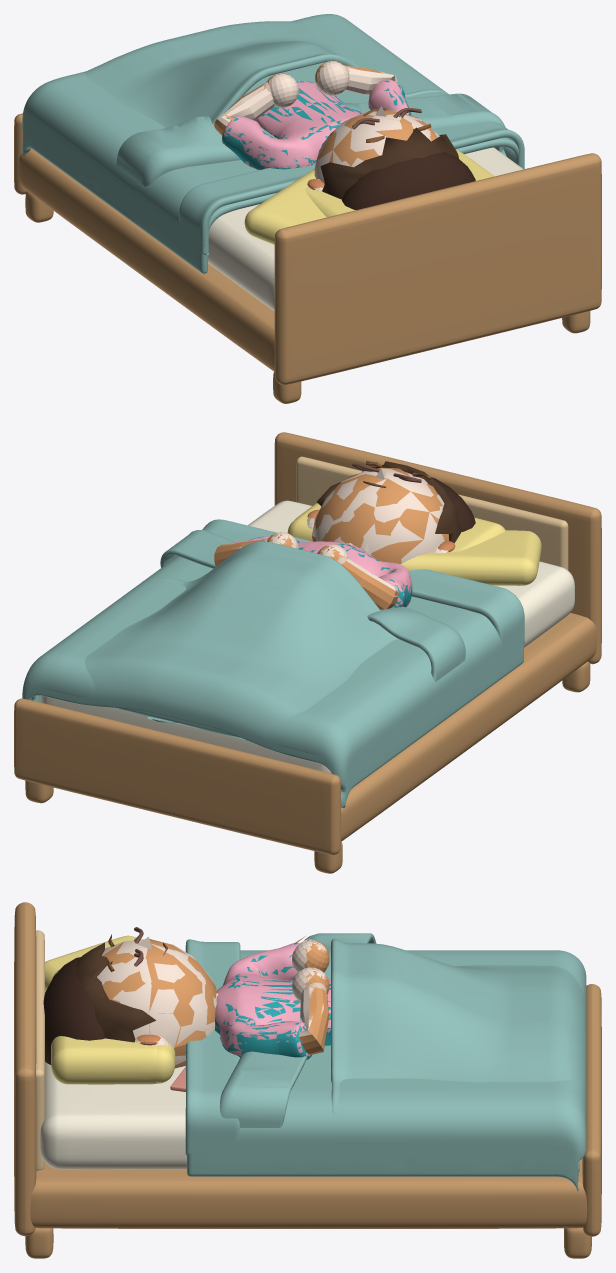
The model's file is Joey Bed.fbx.
The picture shows the model from 3 angles, top to bottom: view 1: azimuth 30°, elevation 25°; view 2: azimuth 150°, elevation 25°; view 3: azimuth 270°, elevation 25°; orthographic projection. The views are drawn at different scales.
Visible parts, largest first — view 1: Bed frame | Bed_Headboard, Neat | Neat_Blanket, Sleeping boy | Smooth_Blanket, Bed frame | Bed_Frame, Messy | Messy_Blanket, Sleeping girl | Girl_Default_Reusable_Shirt, Sleeping girl | Girl_Default_Mesh_NPC_17_Penelope, Neat | Neat_Blanket_Fold, Bed frame | Bed_Mattress, Sleeping boy | Boy_Default_BaldCharacter_Mesh, Sleeping girl | Girl_Default_Hair_Crown, Messy | Messy_Bed_Pillow (+5 smaller); view 2: Sleeping boy | Smooth_Blanket, Bed frame | Bed_Footboard, Neat | Neat_Blanket, Bed frame | Bed_Frame, Bed frame | Bed_Headboard, Sleeping boy | Boy_Default_BaldCharacter_Mesh, Bed frame | Bed_Mattress, Sleeping girl | Girl_Default_Mesh_NPC_17_Penelope, Neat | Neat_Blanket_Fold, Messy | Messy_Blanket, Bed frame | Bed_Headboard_Pad, Messy | Messy_Bed_Pillow (+4 smaller); view 3: Neat | Neat_Blanket, Sleeping boy | Smooth_Blanket, Bed frame | Bed_Frame, Bed frame | Bed_Mattress, Sleeping boy | Boy_Default_BaldCharacter_Mesh, Bed frame | Bed_Headboard, Sleeping girl | Girl_Default_Mesh_NPC_17_Penelope, Neat | Neat_Blanket_Fold, Sleeping girl | Girl_Default_Reusable_Shirt, Messy | Messy_Blanket, Neat | Neat_Bed_Pillow, Bed frame | Bed_Footboard (+7 smaller).
Part boxes in pixels (box(x1,y1,x2,y2)): Bed frame | Bed_Headboard: box(274, 153, 601, 385); Neat | Neat_Blanket: box(22, 14, 518, 273); Sleeping boy | Smooth_Blanket: box(22, 21, 448, 223); Bed frame | Bed_Frame: box(18, 149, 274, 371); Messy | Messy_Blanket: box(116, 93, 506, 186); Sleeping girl | Girl_Default_Reusable_Shirt: box(221, 79, 411, 169); Sleeping girl | Girl_Default_Mesh_NPC_17_Penelope: box(214, 61, 439, 190); Neat | Neat_Blanket_Fold: box(179, 121, 524, 256); Bed frame | Bed_Mattress: box(208, 147, 523, 311); Sleeping boy | Boy_Default_BaldCharacter_Mesh: box(214, 61, 458, 199); Sleeping girl | Girl_Default_Hair_Crown: box(342, 152, 475, 210); Messy | Messy_Bed_Pillow: box(244, 169, 326, 244); Sleeping boy | Smooth_Blanket: box(22, 541, 457, 807); Bed frame | Bed_Footboard: box(14, 698, 341, 855); Neat | Neat_Blanket: box(23, 556, 523, 800); Bed frame | Bed_Frame: box(341, 613, 597, 841); Bed frame | Bed_Headboard: box(274, 432, 601, 664); Sleeping boy | Boy_Default_BaldCharacter_Mesh: box(214, 461, 461, 609); Bed frame | Bed_Mattress: box(40, 500, 574, 773); Sleeping girl | Girl_Default_Mesh_NPC_17_Penelope: box(223, 461, 455, 597); Neat | Neat_Blanket_Fold: box(202, 519, 524, 658); Messy | Messy_Blanket: box(31, 530, 465, 740); Bed frame | Bed_Headboard_Pad: box(296, 456, 568, 570); Messy | Messy_Bed_Pillow: box(400, 530, 541, 585); Neat | Neat_Blanket: box(187, 950, 586, 1190); Sleeping boy | Smooth_Blanket: box(331, 938, 586, 1191); Bed frame | Bed_Frame: box(30, 1159, 587, 1228); Bed frame | Bed_Mattress: box(40, 991, 186, 1169); Sleeping boy | Boy_Default_BaldCharacter_Mesh: box(75, 934, 329, 1068); Bed frame | Bed_Headboard: box(14, 902, 36, 1236); Sleeping girl | Girl_Default_Mesh_NPC_17_Penelope: box(97, 935, 326, 1065); Neat | Neat_Blanket_Fold: box(185, 939, 240, 1155); Sleeping girl | Girl_Default_Reusable_Shirt: box(215, 942, 330, 1059); Messy | Messy_Blanket: box(219, 933, 376, 1127); Neat | Neat_Bed_Pillow: box(51, 968, 157, 1084); Bed frame | Bed_Footboard: box(582, 984, 601, 1236).
Bounding box in the file's own units: 1.44 × 0.9464 × 2.07.
